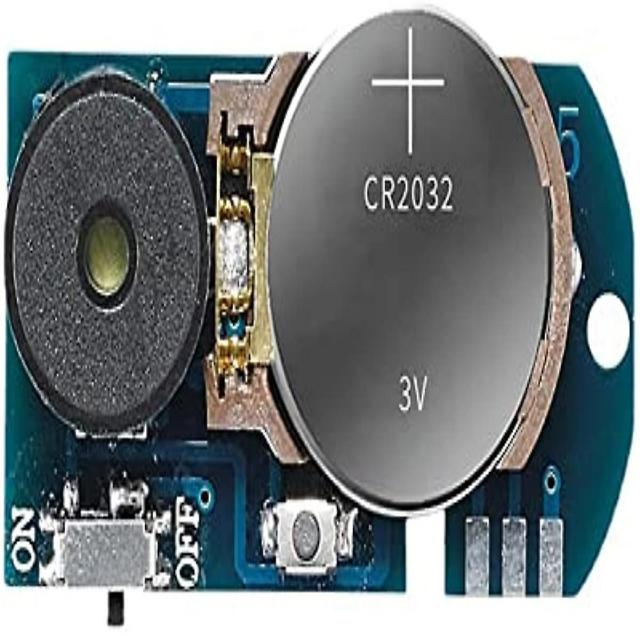2235: (30, 486, 174, 640), (256, 505, 366, 587)
battery: (264, 16, 566, 506)
buzzer: (0, 68, 215, 430)
